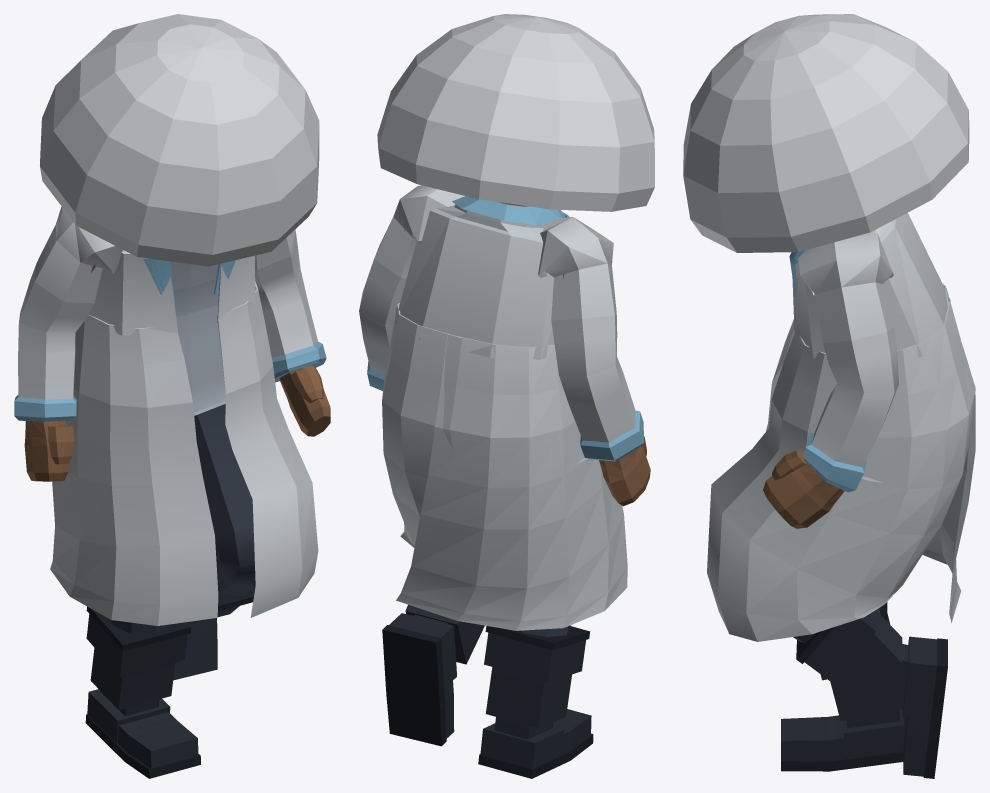
The model's file is city-commuter-52a53f__walk6.glb.
The picture shows the model from 3 angles, left to right: view 1: azimuth 30°, elevation 25°; view 2: azimuth 150°, elevation 25°; view 3: azimuth 270°, elevation 25°; orthographic projection. The views are drawn at different scales.
Visible parts, largest first — view 1: city-commuter-52a53f__walk6; view 2: city-commuter-52a53f__walk6; view 3: city-commuter-52a53f__walk6.
Boxes of the visible parts, <box> form: city-commuter-52a53f__walk6: <box>14,14,330,778</box>; city-commuter-52a53f__walk6: <box>359,14,654,778</box>; city-commuter-52a53f__walk6: <box>683,14,975,778</box>.
Size of the model in its own units: 0.7845 by 1.85 by 0.6552.
